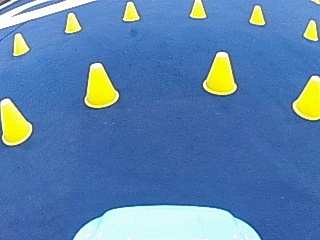cone: (83, 61, 119, 107), (202, 50, 238, 94), (0, 96, 32, 144), (292, 75, 320, 119), (12, 32, 29, 55), (64, 11, 81, 33), (248, 4, 265, 25), (302, 18, 318, 40), (122, 1, 139, 21), (189, 0, 207, 18)
